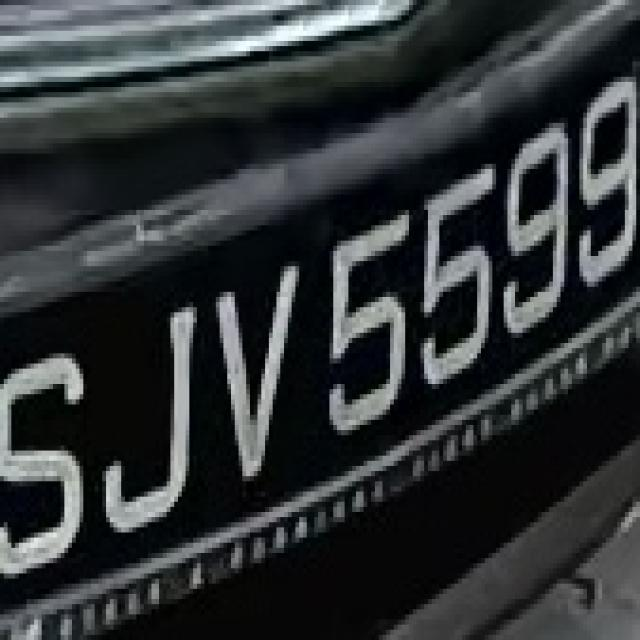5: (402, 154, 492, 425), (326, 210, 416, 466)
9: (504, 133, 583, 353), (564, 71, 640, 286)
J: (106, 312, 216, 548)
S: (11, 332, 95, 584)
V: (208, 251, 314, 502)
